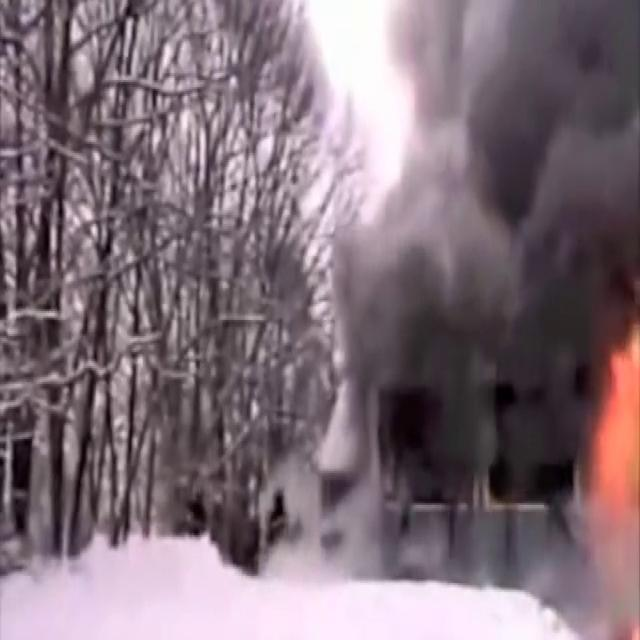Fire: (565, 303, 640, 636)
Smoke: (297, 0, 640, 585)
